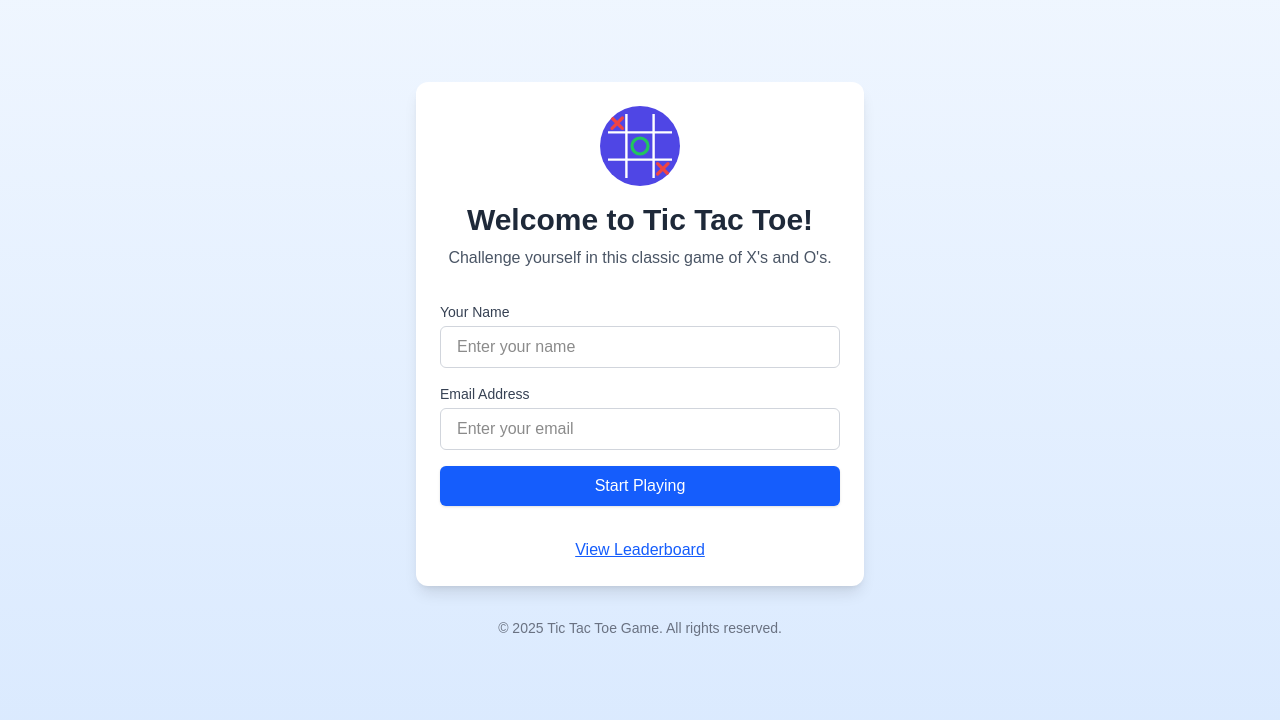
Test: WelcomePage › shows error message when API request fails
Note: Fill in the form with valid data
In the field labelled "Your Name": (640, 347) left=440, top=326, right=840, bottom=368, type "Test User"
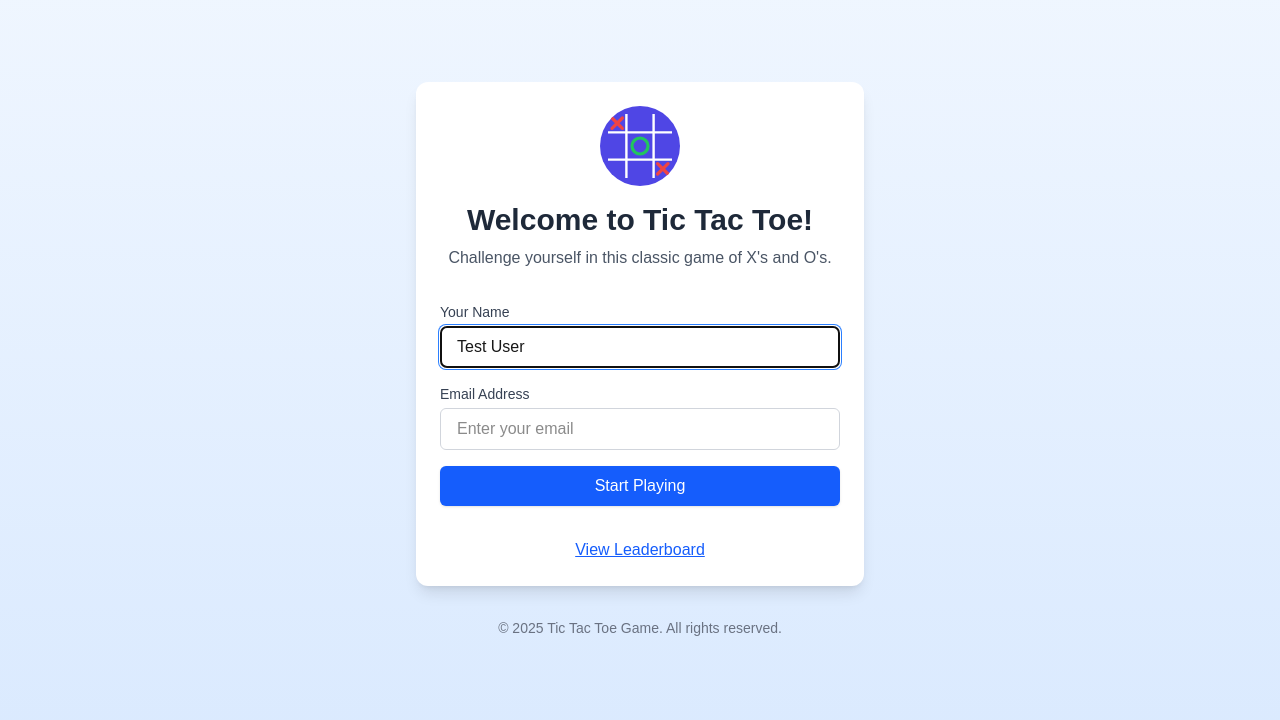
In the field labelled "Email Address": (640, 429) left=440, top=408, right=840, bottom=450, type "test@example.com"
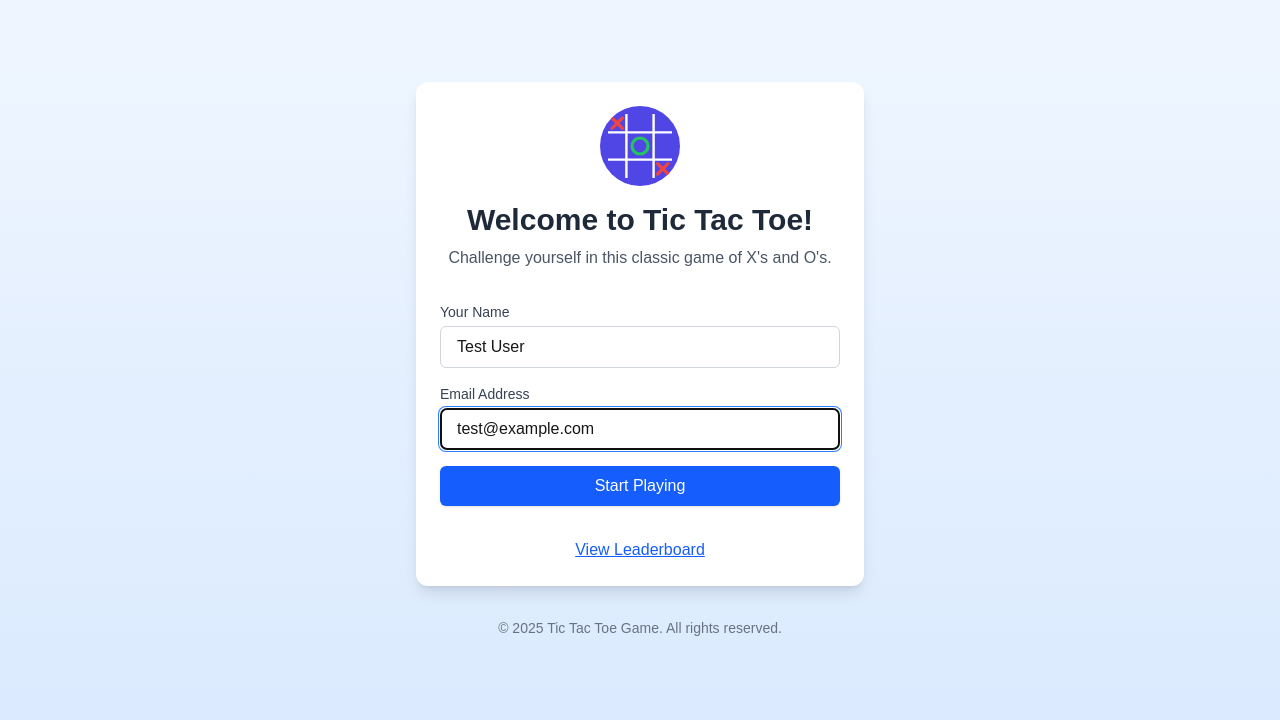
Note: Submit the form
Click the button "Start Playing": (640, 486) left=440, top=466, right=840, bottom=506
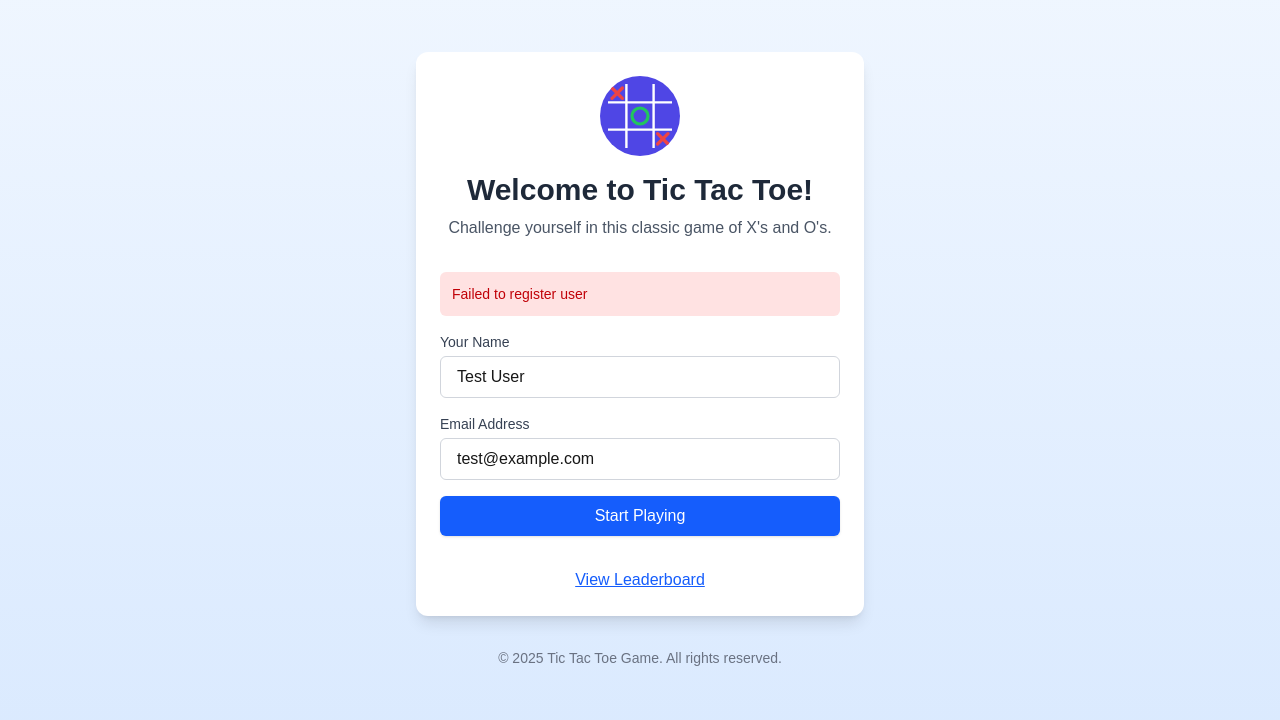
Check: the text "Failed to register user" is shown, box left=440, top=272, right=840, bottom=316
